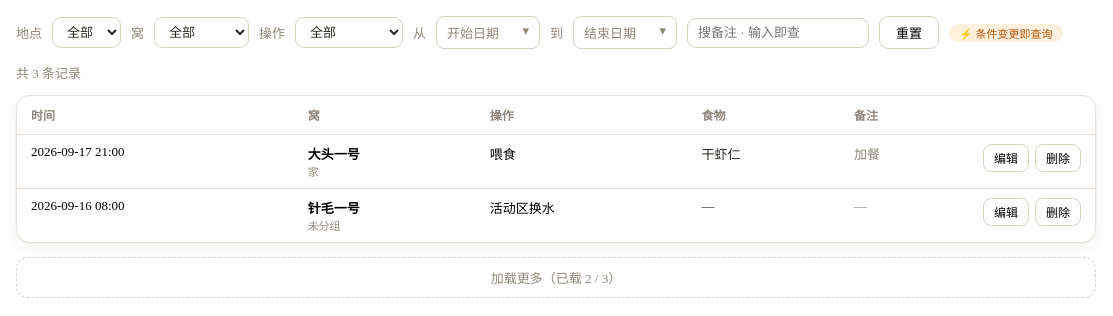
Scenario: 记录列表页（票 08） › 加载更多：offset 递增加入行，取完按钮隐藏
Click the button with class "more-btn" at x=556, y=278, box [16,257,1096,298]
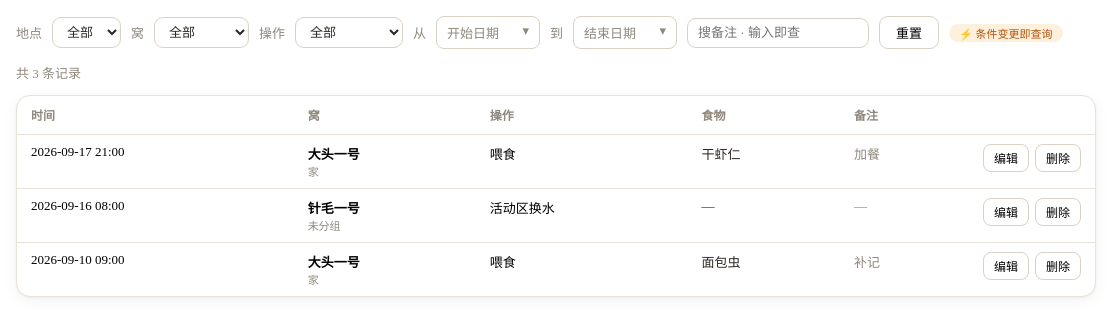
Now the number of rows with class "log-row" is 3, box [17,134,1095,188]; [17,188,1095,242]; [17,242,1095,296]
